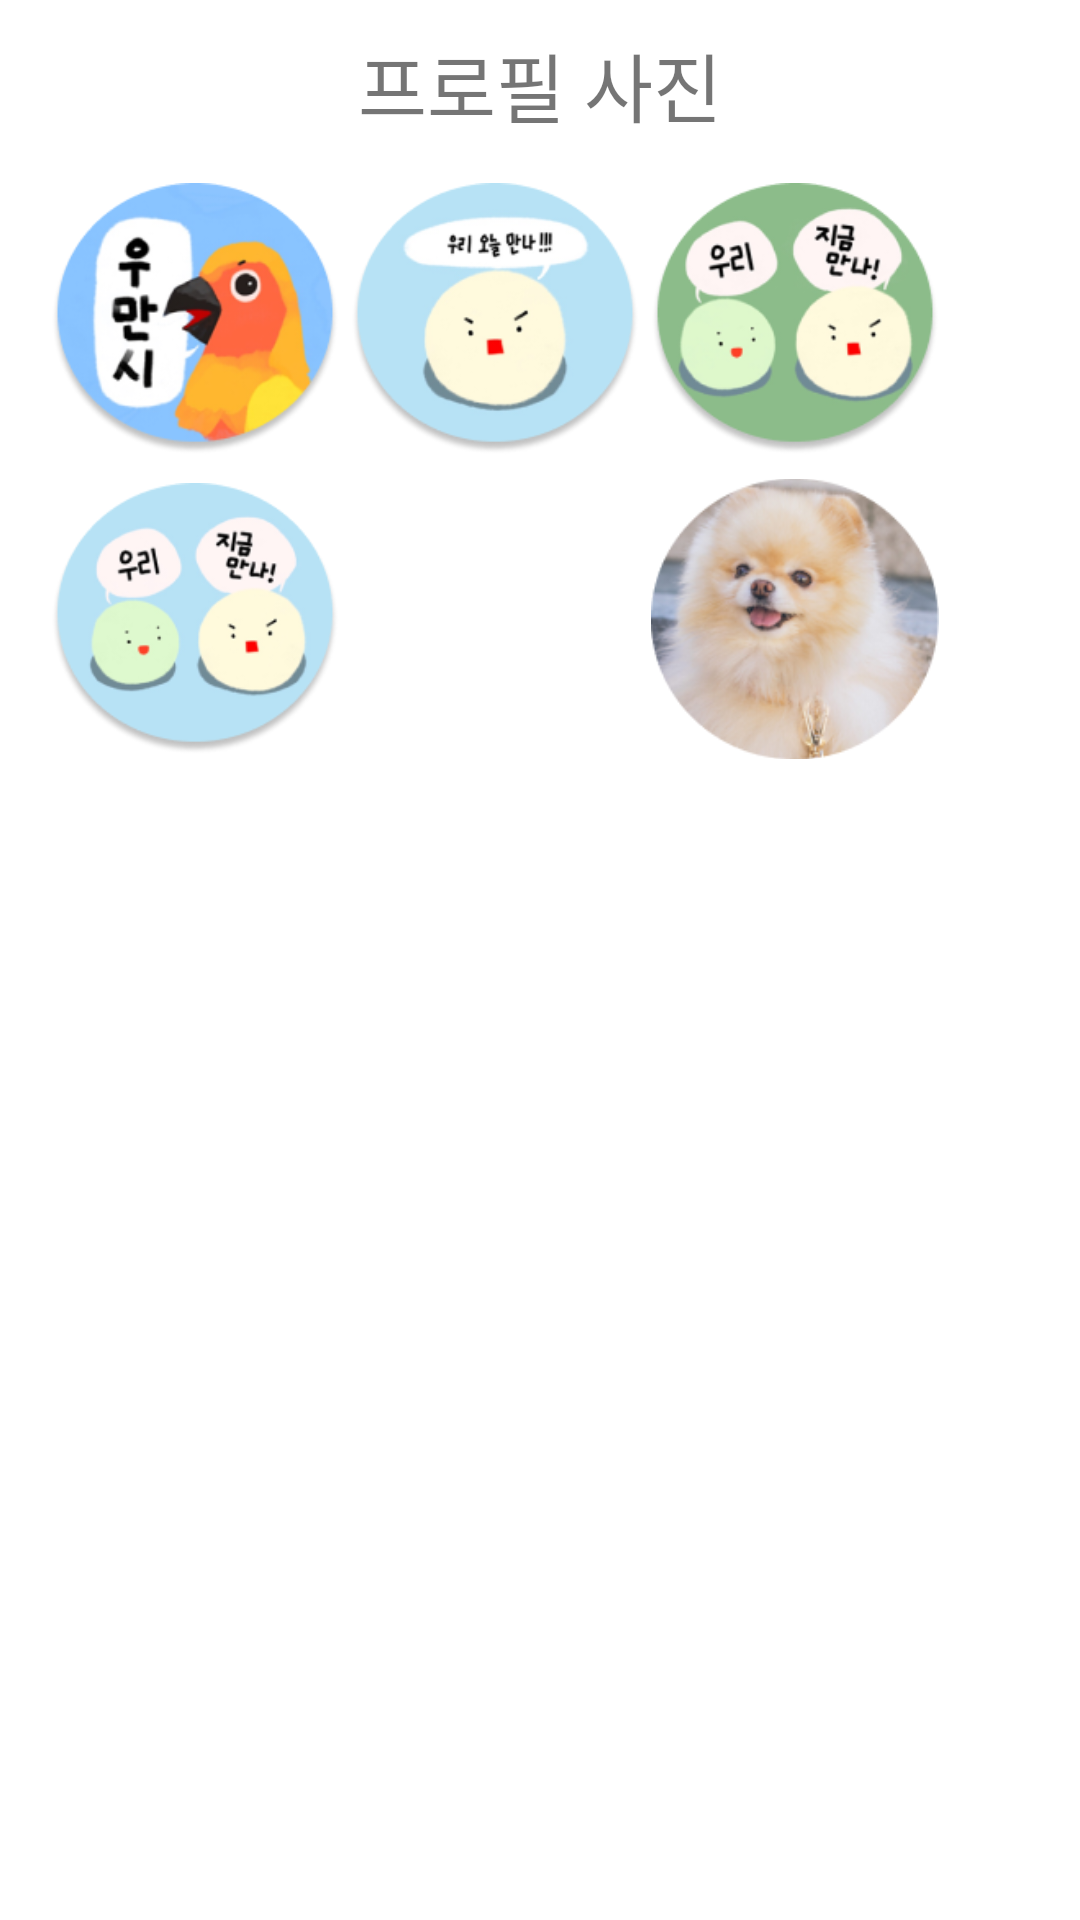

Where icons sit on this 1080w x 1920h app screen, as (x1, y1, x2, y2):
profile: (57, 183, 333, 449), (357, 183, 633, 449), (657, 183, 933, 449), (651, 479, 939, 759), (57, 483, 333, 749)
